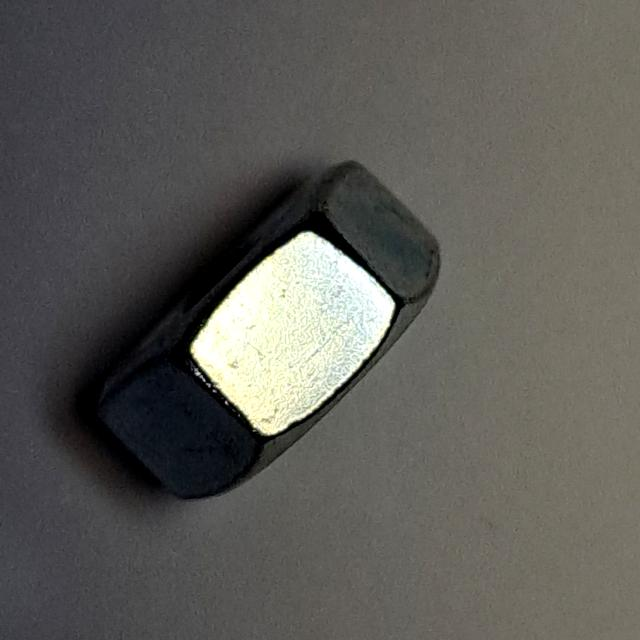Side_Excellent: (74, 147, 474, 514)
